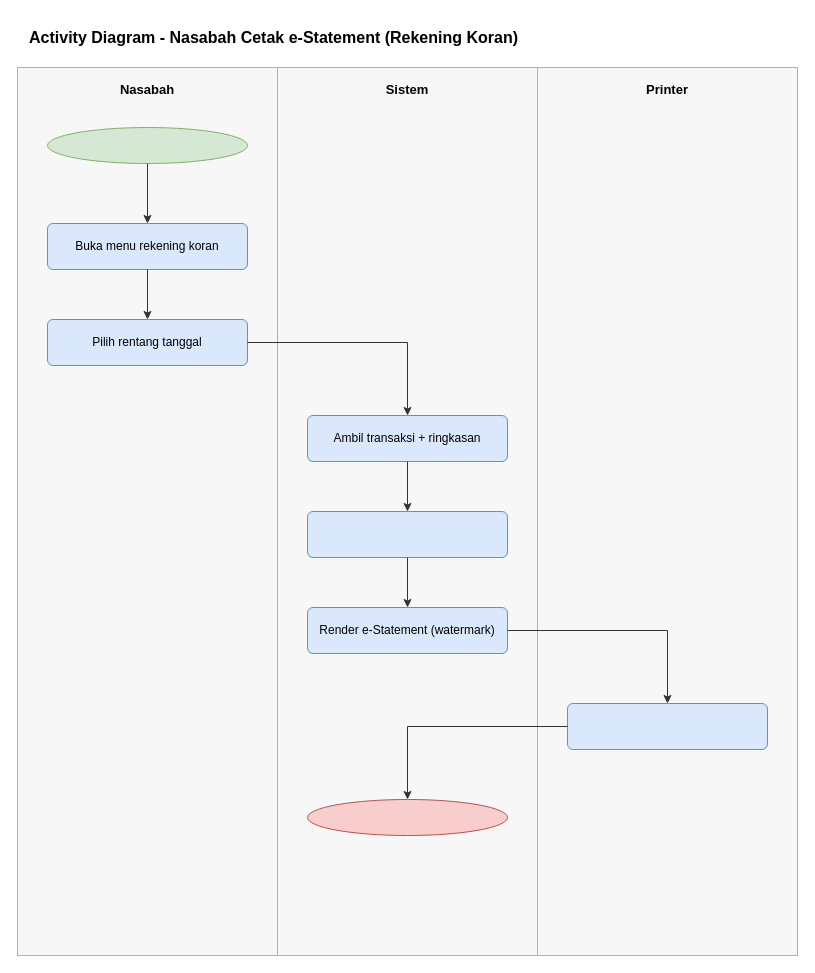
This 815x973 diagram has some shape labels left out. The centre of each missing label's shape, as x and y in pixels:
"Cetak/simpan PDF" belongs at (x=667, y=726).
"Hitung kode verifikasi" belongs at (x=407, y=534).
"Mulai" belongs at (x=147, y=145).
"Selesai" belongs at (x=407, y=817).
